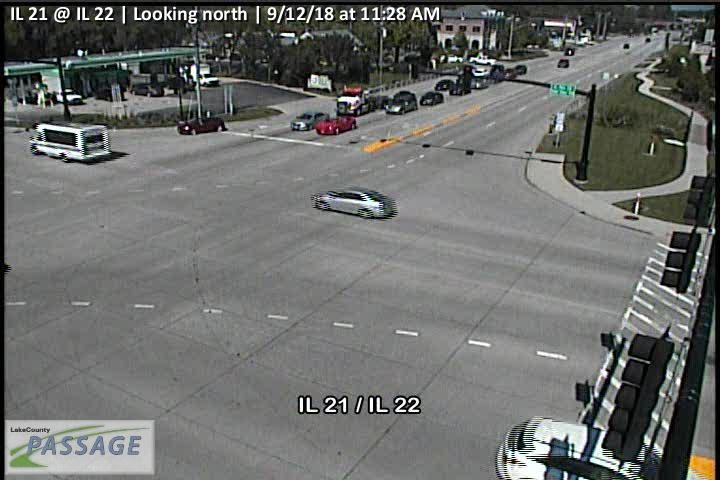Bus: (26, 120, 111, 162)
SUV: (494, 414, 697, 480), (386, 92, 418, 115)
Sedan: (311, 186, 395, 219), (176, 116, 225, 135), (315, 114, 357, 135), (291, 110, 330, 131), (419, 91, 444, 106), (434, 78, 454, 90), (450, 84, 472, 94)
Truck: (336, 85, 392, 116), (469, 53, 496, 66)
